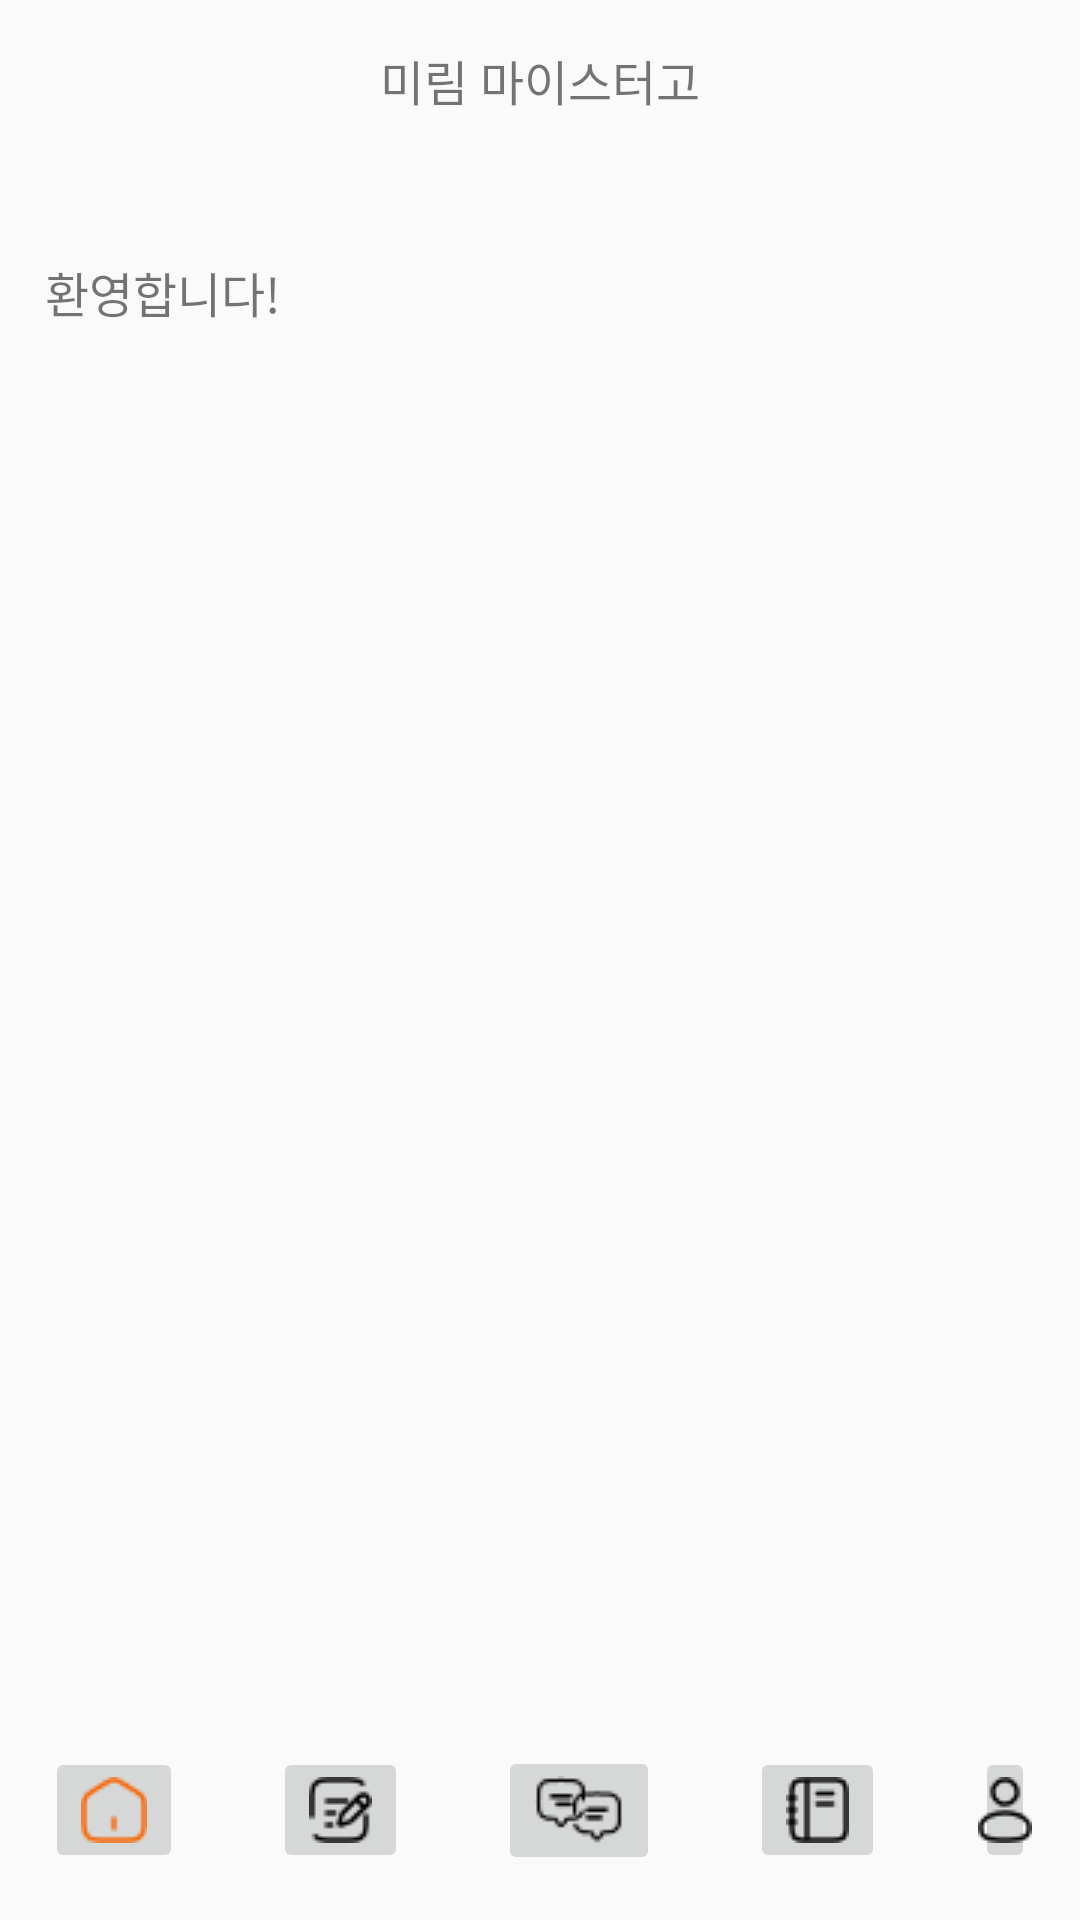

Locate icon controls on the screen. Image size 1080*1920, boxes as (x1, y1, x2, y2).
chat: (510, 1764, 648, 1857)
focus home: (57, 1765, 171, 1855)
mypage: (978, 1765, 1032, 1855)
